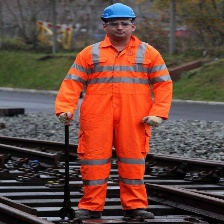helmet: (97, 2, 142, 25)
person: (54, 2, 176, 219)
vest: (75, 40, 170, 142)
